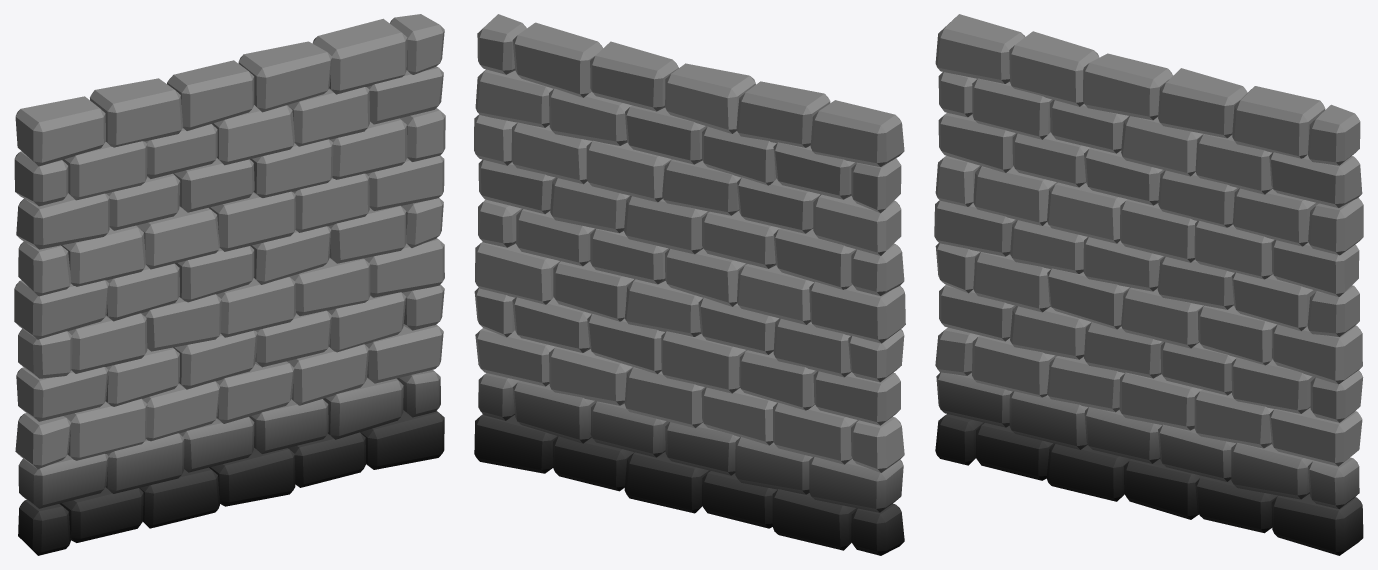
File: BrickWall2x2_01_Solo.fbx
3 views of the same model, side by side, from view 1: azimuth 30°, elevation 25°; view 2: azimuth 150°, elevation 25°; view 3: azimuth 330°, elevation 25° (orthographic).
Parts seen in each view (by area): view 1: BrickWall2x2_01_Solo; view 2: BrickWall2x2_01_Solo; view 3: BrickWall2x2_01_Solo.
Boxes of the visible parts, <box> form: BrickWall2x2_01_Solo: <box>14,14,445,555</box>; BrickWall2x2_01_Solo: <box>474,14,905,555</box>; BrickWall2x2_01_Solo: <box>934,14,1363,555</box>.
Bounding box in the file's own units: 200 × 202 × 22.12.
